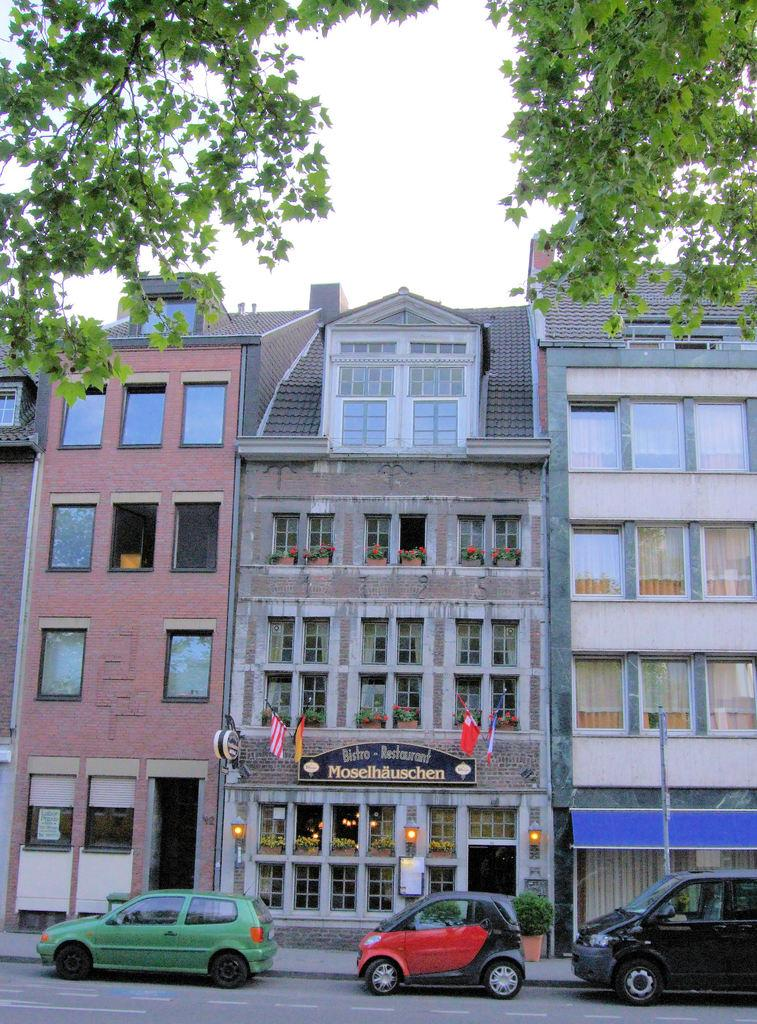vehicle: (573, 869, 757, 1007), (36, 890, 283, 990), (356, 891, 529, 1000)
